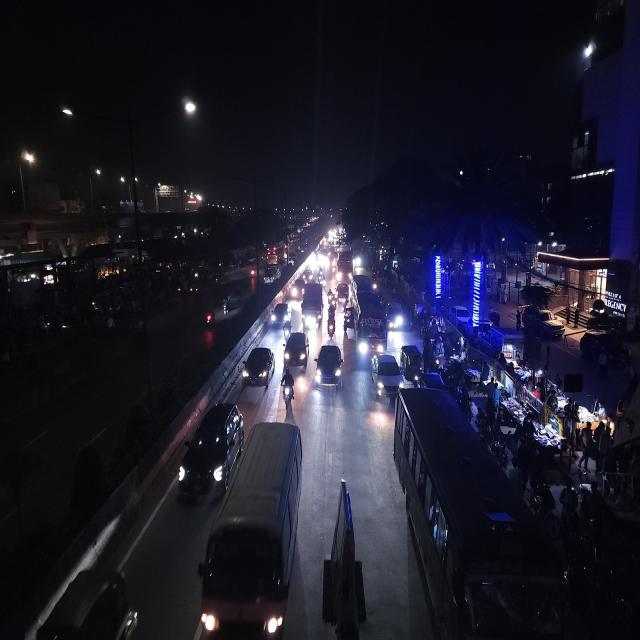bus: (394, 387, 566, 639), (198, 422, 308, 638), (352, 286, 388, 359), (300, 282, 324, 331), (336, 248, 354, 282)
car: (175, 398, 243, 507), (369, 349, 403, 403), (240, 344, 276, 394), (314, 340, 344, 395), (284, 329, 310, 374), (386, 295, 404, 333), (269, 300, 291, 329), (451, 301, 473, 329), (336, 281, 350, 308), (293, 279, 304, 299), (302, 267, 314, 284)
cng: (400, 343, 422, 385), (343, 302, 355, 341)
motorcycle: (280, 365, 296, 411), (325, 305, 337, 341), (220, 290, 232, 318), (204, 308, 216, 332), (340, 286, 352, 308), (318, 269, 326, 287)
pedestrian: (501, 278, 511, 304)
